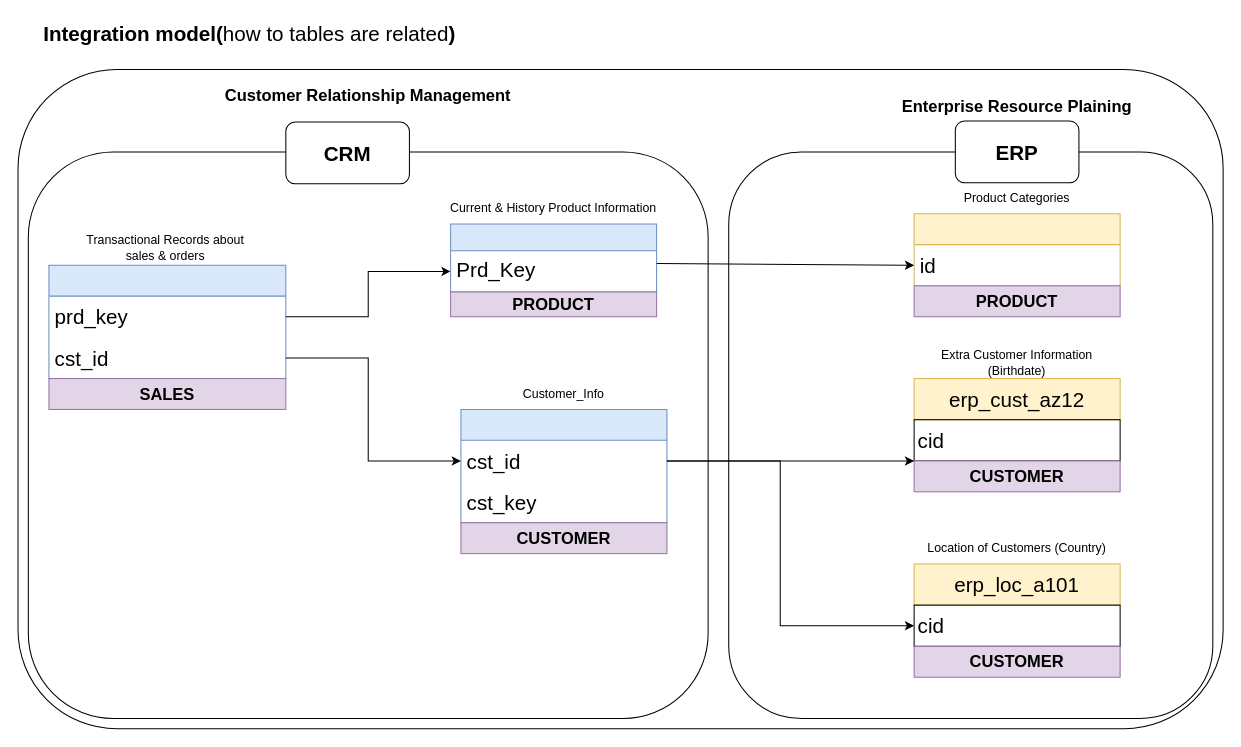
Some shapes in this 1241 by 747 pixel diagram are drawn without their labels. Each missing label, with the box of its shape:
crm_cust_info: (460, 408, 667, 523)
crm_prd_info: (450, 223, 657, 292)
crm_sales_details: (48, 264, 286, 379)
erp_px_cat_g1v2: (913, 213, 1120, 286)
